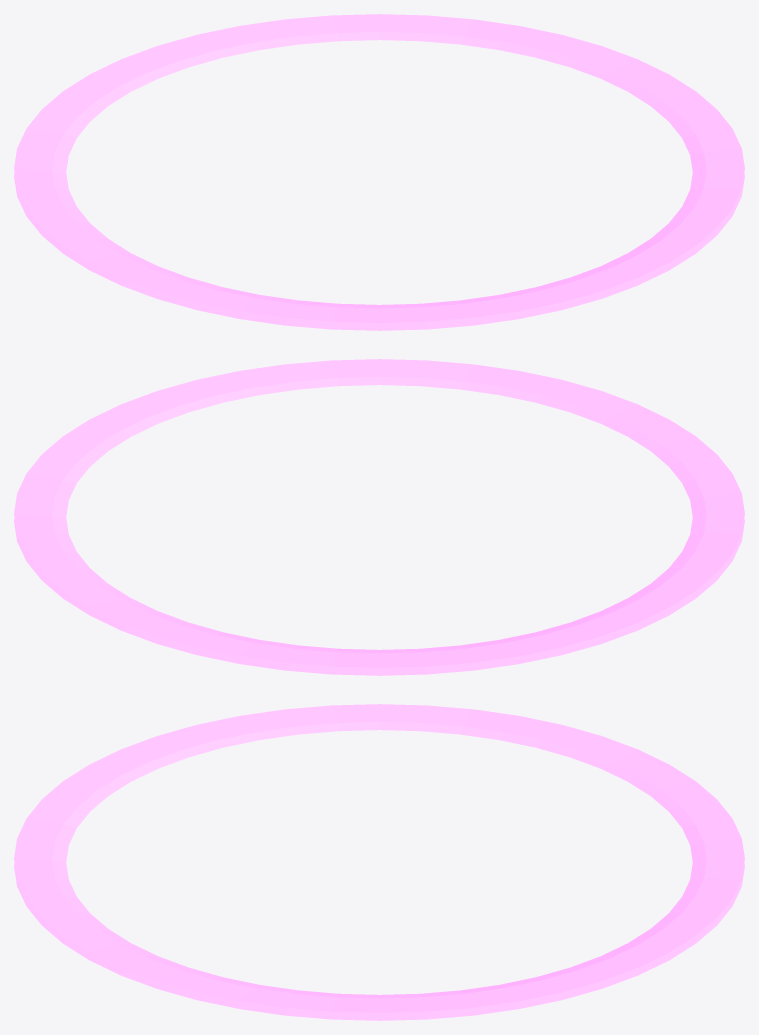
Rendered from Hole .fbx.
3 views of the same model, one above another, from view 1: azimuth 30°, elevation 25°; view 2: azimuth 150°, elevation 25°; view 3: azimuth 270°, elevation 25° (orthographic).
Visible parts, largest first — view 1: Torus; view 2: Torus; view 3: Torus.
Part boxes in pixels (bbox=[...]): Torus: bbox=[14, 14, 744, 330]; Torus: bbox=[14, 359, 744, 675]; Torus: bbox=[14, 704, 744, 1020].
Bounding box in the file's own units: 549 × 6.48 × 549.
